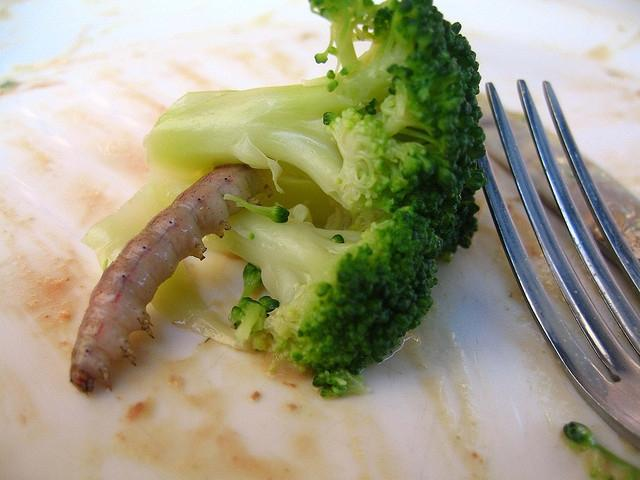broccoli: (80, 0, 488, 273), (206, 206, 440, 374)
